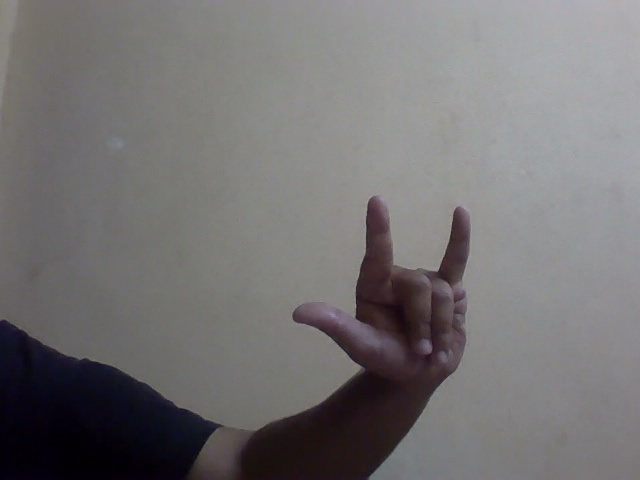I love you: (284, 190, 495, 403)
